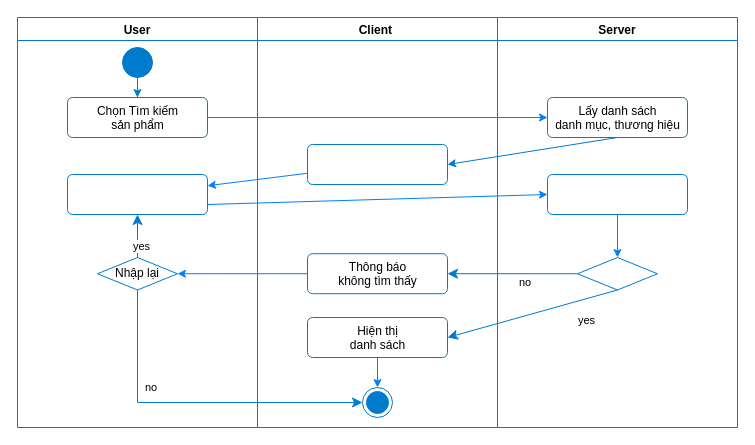
Some shapes in this 755 by 445 pixel diagram are drawn without their labels. Each missing label, with the centre of its shape:
Hiển thị giao diện Tìm kiếm: the point at 377,164
Nhập từ khóa, danh mục, thương hiệu: the point at 137,194
Tìm kiếm sản phẩm theo đầu vào: the point at 617,194
Tìm thấy: the point at 617,273
